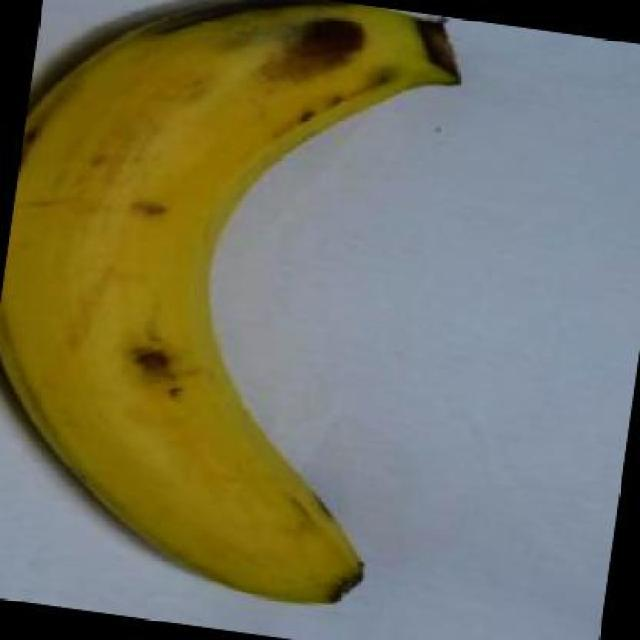ripe: (0, 0, 478, 621)
